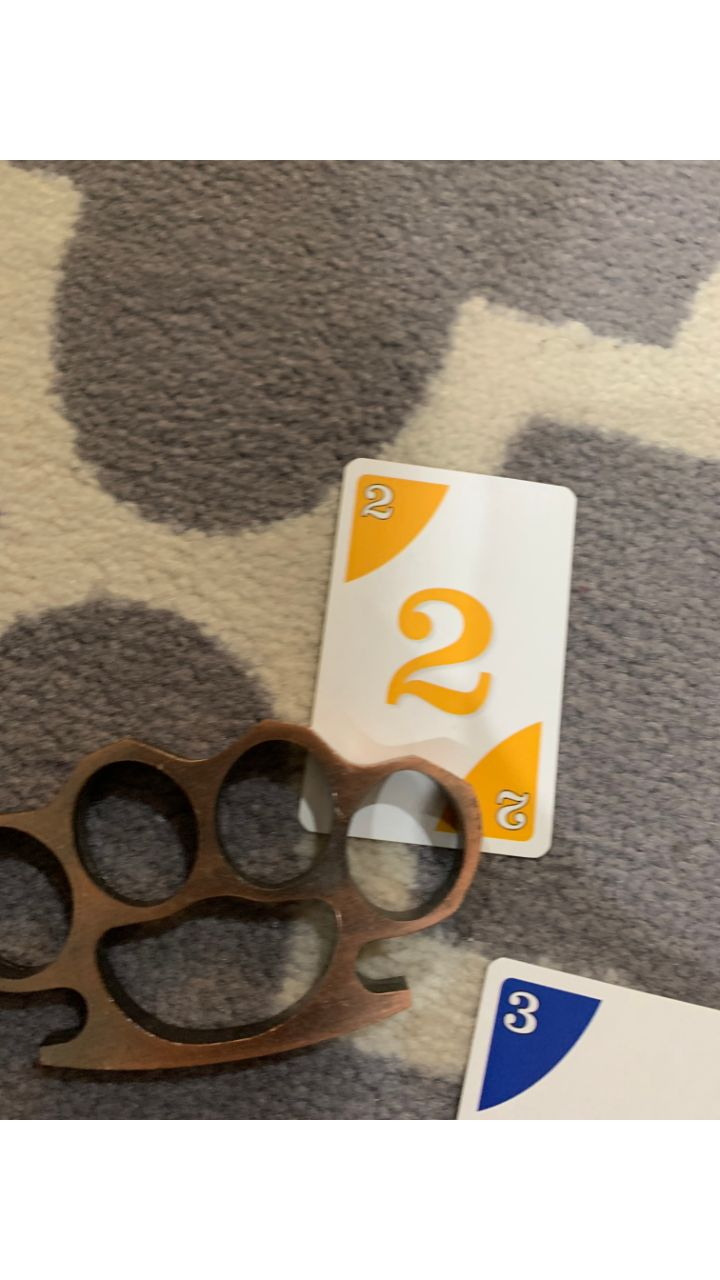two: (295, 455, 582, 868)
